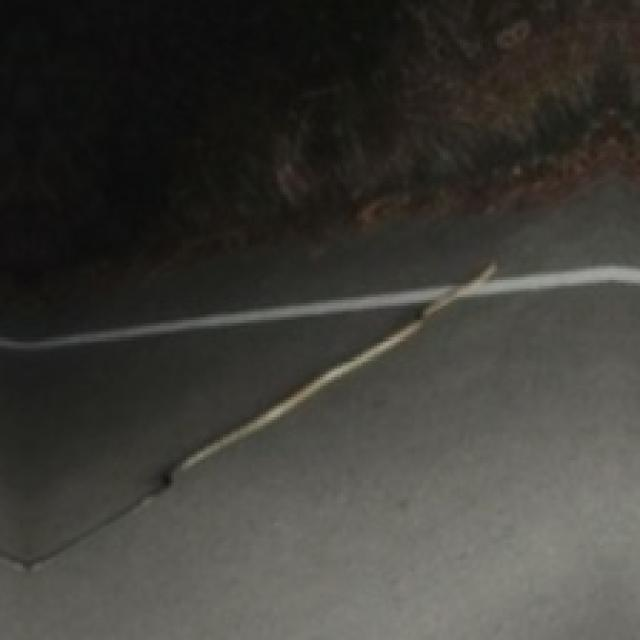king cobra: (0, 0, 637, 334), (0, 309, 411, 557)
